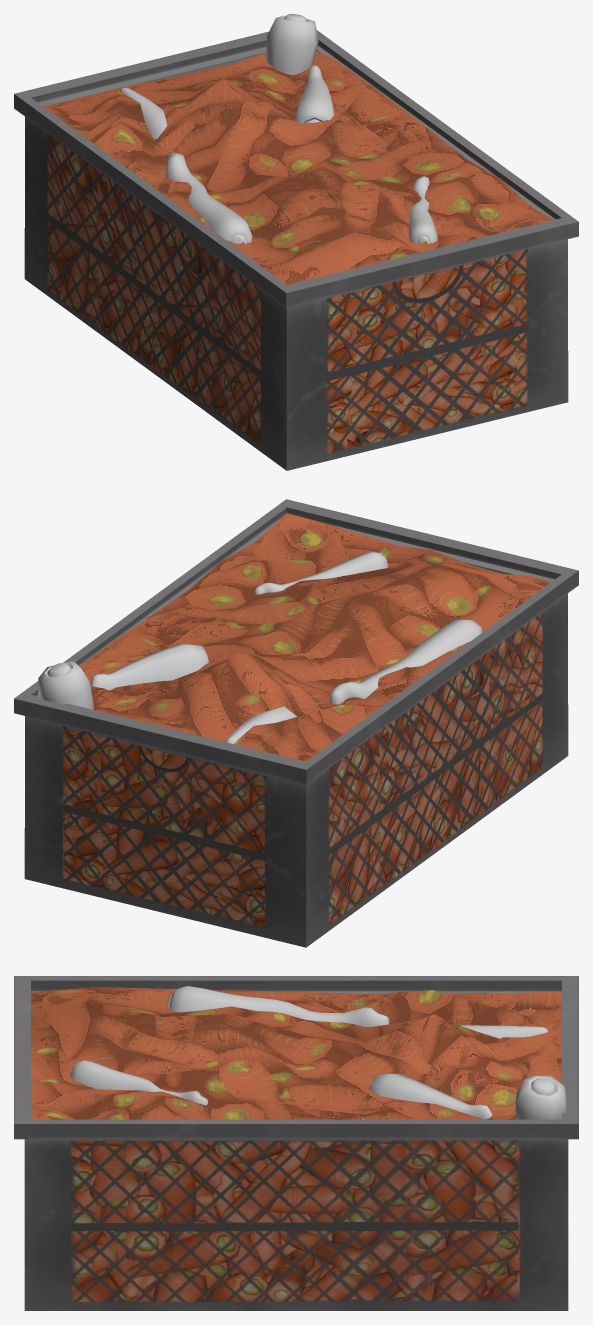
File: caja de zanahorias.fbx
The picture shows the model from 3 angles, top to bottom: view 1: azimuth 30°, elevation 25°; view 2: azimuth 150°, elevation 25°; view 3: azimuth 270°, elevation 25°; orthographic projection. The views are drawn at different scales.
Visible parts, largest first — view 1: caja de zanahorias, plano zanahorias, Carrot.010, Carrot.001, Carrot02.001, Carrot, Carrot02.003; view 2: caja de zanahorias, plano zanahorias, Carrot02.001, Carrot.001, Carrot.010, Carrot, Carrot02.003; view 3: caja de zanahorias, plano zanahorias, Carrot.001, Carrot02.001, Carrot.010, Carrot, Carrot02.003.
Part boxes in pixels (box(x1,y1,x2,y2)): caja de zanahorias: box(14, 30, 578, 470); plano zanahorias: box(42, 51, 553, 284); Carrot.010: box(266, 14, 318, 74); Carrot.001: box(166, 153, 252, 244); Carrot02.001: box(294, 65, 333, 123); Carrot: box(409, 176, 437, 244); Carrot02.003: box(120, 87, 166, 139); caja de zanahorias: box(14, 499, 578, 947); plano zanahorias: box(79, 513, 550, 761); Carrot02.001: box(90, 644, 208, 690); Carrot.001: box(330, 619, 482, 704); Carrot.010: box(38, 661, 93, 709); Carrot: box(254, 551, 388, 594); Carrot02.003: box(226, 706, 297, 743); caja de zanahorias: box(14, 976, 578, 1310); plano zanahorias: box(31, 987, 561, 1119); Carrot.001: box(167, 986, 389, 1027); Carrot02.001: box(370, 1073, 492, 1119); Carrot.010: box(515, 1074, 566, 1119); Carrot: box(70, 1060, 207, 1105); Carrot02.003: box(460, 1025, 547, 1038).
Size of the model in its own units: 46.89 by 32.89 by 75.63.
